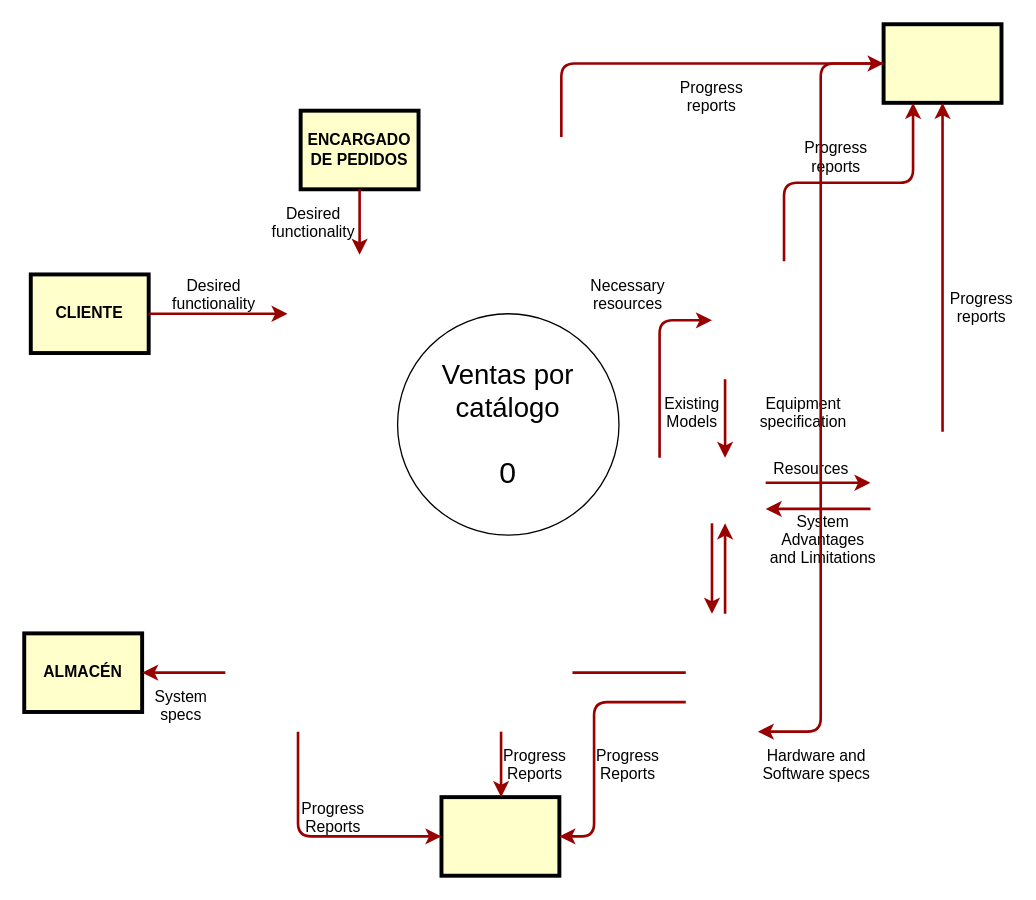
Some shapes in this 1036 by 900 pixel diagram are drawn without their labels. Each missing label, with the centre of its shape:
CONTABILIDAD: the point at 500,836
REPARTIDOR: the point at 942,63
